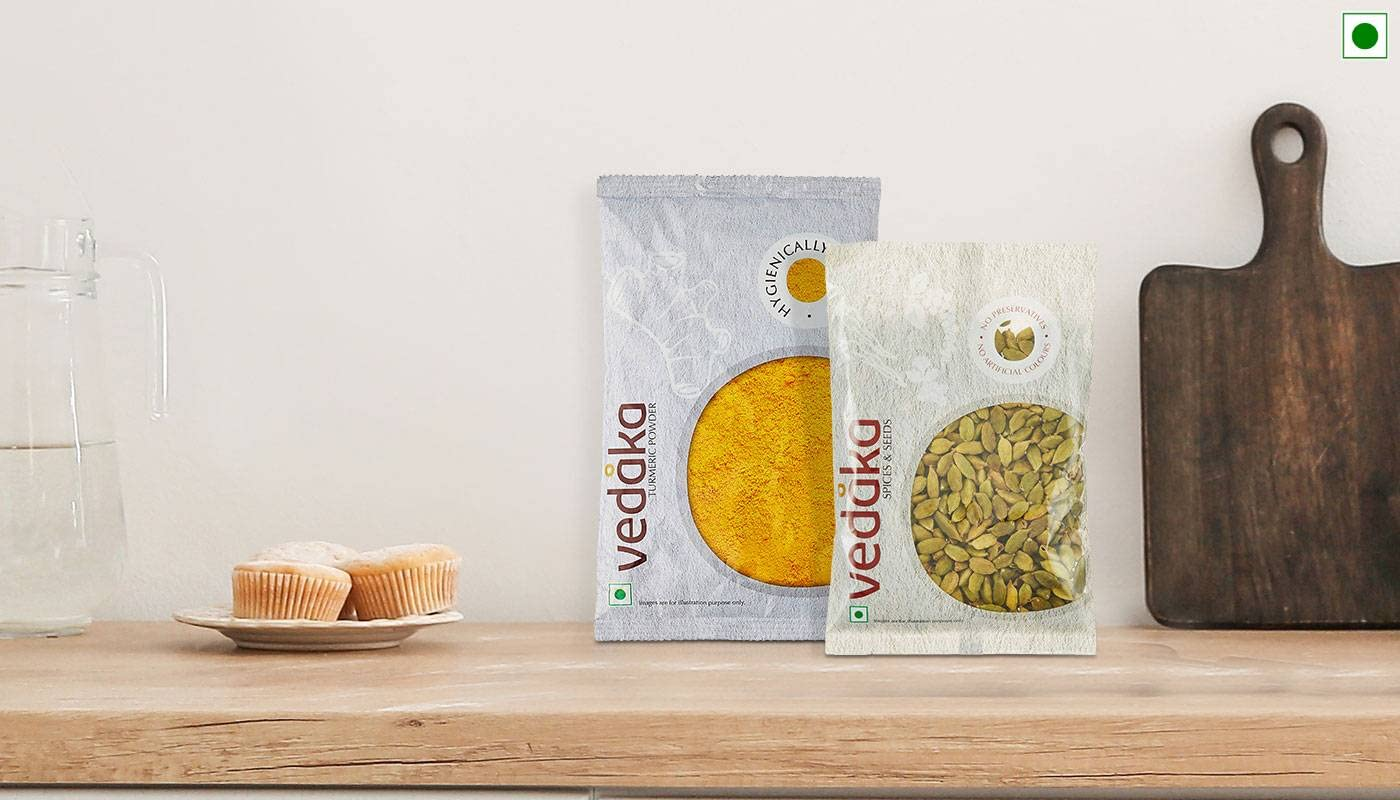veg: (1328, 6, 1392, 75), (612, 581, 640, 614), (845, 605, 878, 627)
